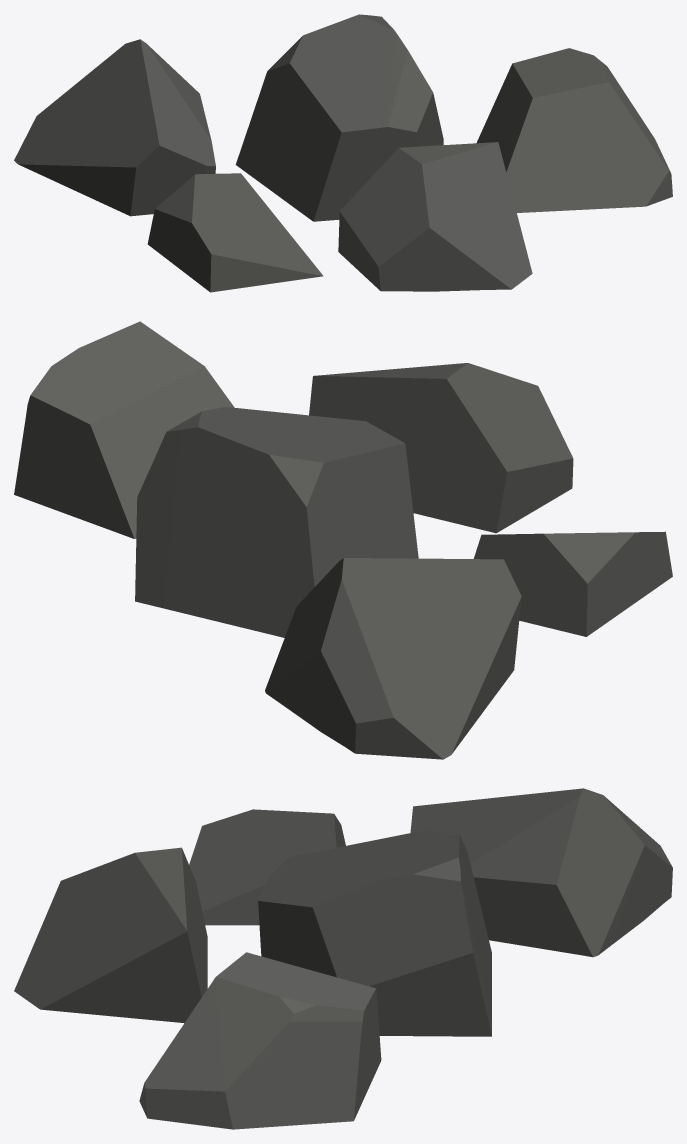
Rendered from SM_Envr_Nature_Rock_Group_05.fbx.
3 views of the same model, one above another, from view 1: azimuth 30°, elevation 25°; view 2: azimuth 150°, elevation 25°; view 3: azimuth 270°, elevation 25° (orthographic). The views are drawn at different scales.
Parts seen in each view (by area): view 1: SM_Envr_Nature_Rock_Group_05; view 2: SM_Envr_Nature_Rock_Group_05; view 3: SM_Envr_Nature_Rock_Group_05.
Boxes of the visible parts, x1,y1,x2,y2 form: SM_Envr_Nature_Rock_Group_05: (14, 14, 672, 292); SM_Envr_Nature_Rock_Group_05: (14, 321, 672, 759); SM_Envr_Nature_Rock_Group_05: (14, 788, 672, 1129).
Bounding box in the file's own units: 665 × 190 × 680.
